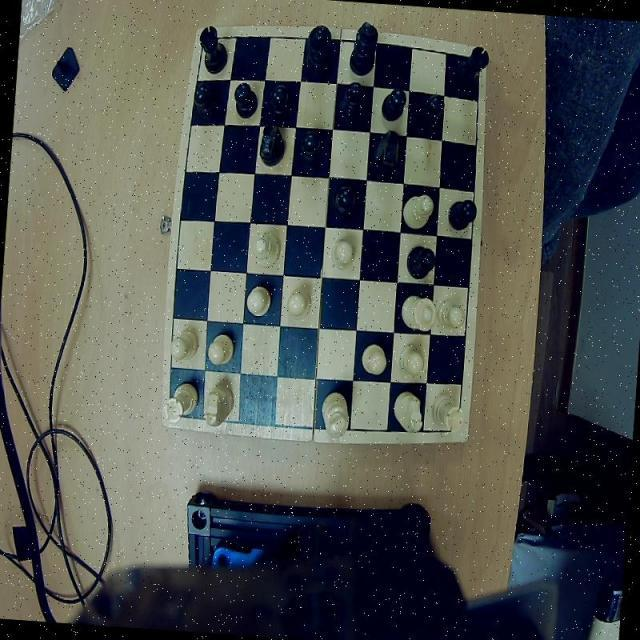chess-table-corners: (162, 400, 185, 424), (444, 418, 466, 442), (469, 47, 486, 76), (198, 27, 217, 50)
